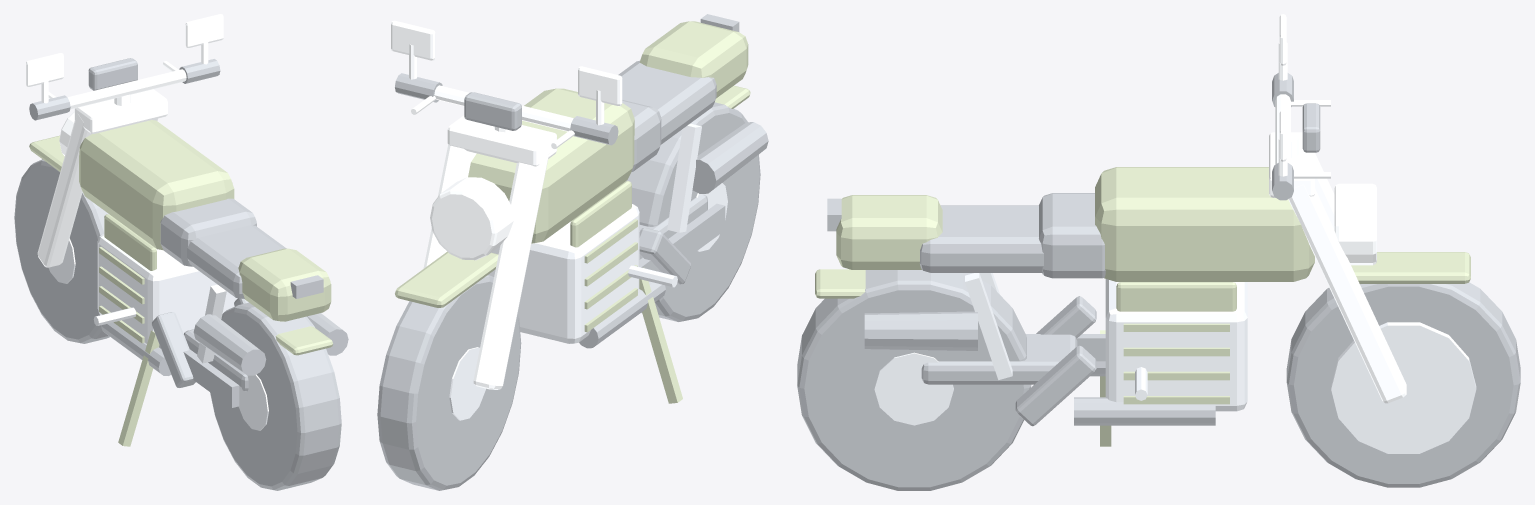
File: motorcycle.glb
3 views of the same model, side by side, from view 1: azimuth 30°, elevation 25°; view 2: azimuth 150°, elevation 25°; view 3: azimuth 270°, elevation 25° (orthographic). The views are drawn at different scales.
Visible parts, largest first — view 1: WheelR_Tire, Tank, WheelF_Tire, Engine, Tail, Seat, Fork-12, TankSeat, TripleClamp, Muffler-16, PipeMid-16, Handlebar (+21 smaller); view 2: WheelF_Tire, WheelR_Tire, Tank, Engine, Fork-12, Headlight, Tail, Seat, TripleClamp, FenderF, Muffler-16, Shock-13 (+22 smaller); view 3: WheelR_Tire, WheelF_Tire, Tank, WheelF_Disc, Engine, Seat, Tail, Fork12, TankSeat, Muffler16, Swingarm, WheelR_Hub (+14 smaller).
Boxes of the visible parts, bbox=[...] form: WheelR_Tire: bbox=[210, 302, 341, 490]; Tank: bbox=[79, 120, 234, 250]; WheelF_Tire: bbox=[14, 159, 109, 343]; Engine: bbox=[97, 234, 237, 343]; Tail: bbox=[238, 248, 331, 321]; Seat: bbox=[187, 225, 286, 298]; Fork-12: bbox=[37, 114, 91, 267]; TankSeat: bbox=[160, 198, 256, 266]; TripleClamp: bbox=[74, 89, 167, 133]; Muffler-16: bbox=[193, 314, 266, 375]; PipeMid-16: bbox=[151, 312, 195, 387]; Handlebar: bbox=[67, 69, 186, 109]; WheelF_Tire: bbox=[377, 275, 521, 490]; WheelR_Tire: bbox=[626, 102, 760, 321]; Tank: bbox=[468, 88, 634, 243]; Engine: bbox=[488, 204, 639, 343]; Fork-12: bbox=[473, 151, 549, 389]; Headlight: bbox=[430, 177, 513, 260]; Tail: bbox=[639, 21, 748, 98]; Seat: bbox=[618, 60, 716, 144]; TripleClamp: bbox=[447, 115, 556, 166]; FenderF: bbox=[395, 251, 498, 307]; Muffler-16: bbox=[692, 122, 768, 193]; Shock-13: bbox=[667, 123, 701, 232]; WheelR_Tire: bbox=[797, 270, 1031, 490]; WheelF_Tire: bbox=[1286, 282, 1520, 487]; Tank: bbox=[1095, 167, 1314, 281]; WheelF_Disc: bbox=[1331, 322, 1476, 453]; Engine: bbox=[1105, 279, 1247, 411]; Seat: bbox=[919, 205, 1043, 272]; Tail: bbox=[836, 195, 942, 269]; Fork12: bbox=[1288, 184, 1406, 403]; TankSeat: bbox=[1039, 193, 1105, 278]; Muffler16: bbox=[864, 311, 977, 350]; Swingarm: bbox=[921, 334, 1077, 384]; WheelR_Hub: bbox=[874, 352, 953, 425].
Bounding box in the file's own units: 0.79 × 1.29 × 2.04.
